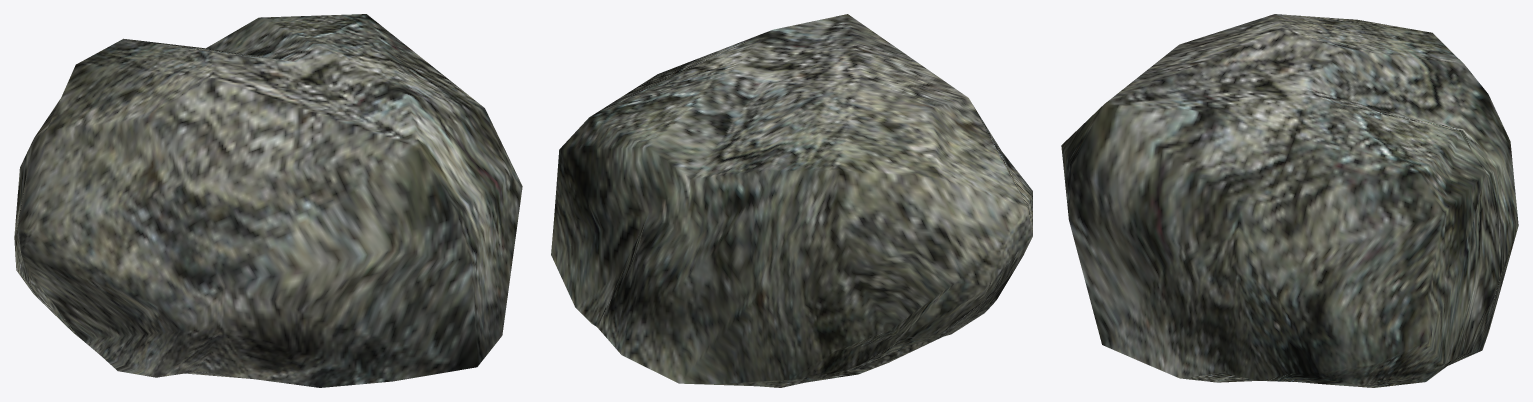
The model's file is rock.fbx.
3 views of the same model, side by side, from view 1: azimuth 30°, elevation 25°; view 2: azimuth 150°, elevation 25°; view 3: azimuth 270°, elevation 25° (orthographic). The views are drawn at different scales.
Visible parts, largest first — view 1: rock; view 2: rock; view 3: rock.
Part boxes in pixels (bbox=[...]): rock: bbox=[14, 14, 522, 387]; rock: bbox=[551, 14, 1032, 387]; rock: bbox=[1061, 14, 1518, 387].
Bounding box in the file's own units: 41.83 × 25.03 × 37.9.
Materials: 1 (1 with a texture image).
